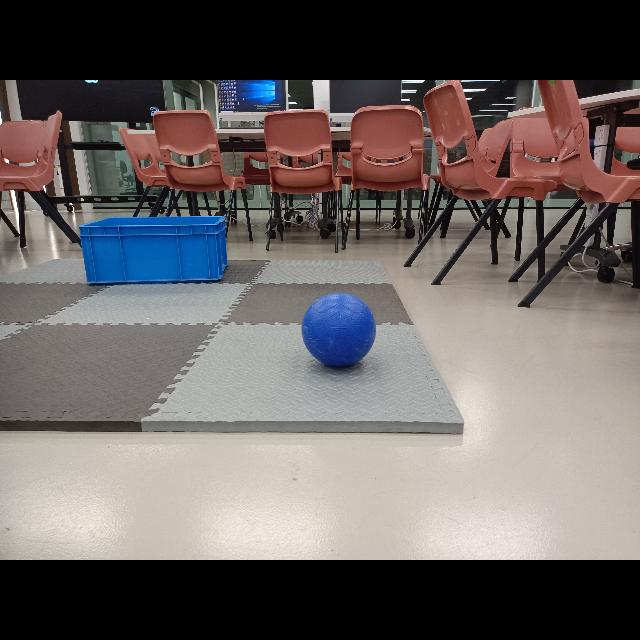B: (299, 296, 376, 366)
